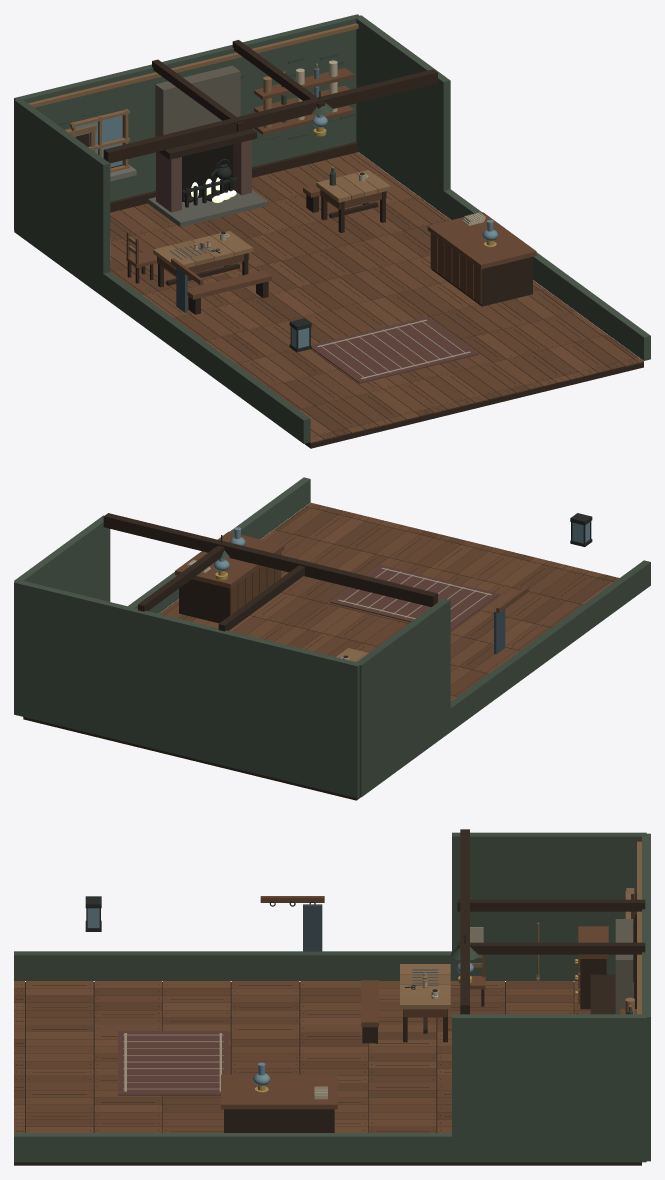
The model's file is lantern-common.glb.
3 renders of one model, top to bottom at view 1: azimuth 30°, elevation 25°; view 2: azimuth 150°, elevation 25°; view 3: azimuth 270°, elevation 25°, orthographic. The views are drawn at different scales.
Visible parts, largest first — view 1: lantern-common-wood, lantern-common-green, lantern-common-woodDark, lantern-common-woodLight, lantern-common-red, lantern-common-plaster, lantern-common-brick, lantern-common-stone, lantern-common-linen, lantern-common-black, lantern-common-iron, lantern-common-glass (+1 smaller); view 2: lantern-common-green, lantern-common-wood, lantern-common-woodDark, lantern-common-red, lantern-common-linen, lantern-common-glass, lantern-common-iron, lantern-common-blue; view 3: lantern-common-green, lantern-common-wood, lantern-common-woodDark, lantern-common-red, lantern-common-woodLight, lantern-common-linen, lantern-common-plaster, lantern-common-blue, lantern-common-iron, lantern-common-glass.
Boxes of the visible parts, bbox=[...] form: lantern-common-wood: bbox=[110, 68, 643, 443]; lantern-common-green: bbox=[14, 14, 650, 443]; lantern-common-woodDark: bbox=[71, 40, 643, 448]; lantern-common-woodLight: bbox=[28, 23, 390, 269]; lantern-common-red: bbox=[311, 316, 478, 383]; lantern-common-plaster: bbox=[155, 65, 240, 136]; lantern-common-brick: bbox=[156, 140, 251, 212]; lantern-common-stone: bbox=[110, 165, 267, 226]; lantern-common-linen: bbox=[110, 60, 485, 378]; lantern-common-black: bbox=[182, 144, 233, 202]; lantern-common-iron: bbox=[113, 91, 640, 438]; lantern-common-glass: bbox=[75, 65, 498, 348]; lantern-common-green: bbox=[14, 477, 650, 798]; lantern-common-wood: bbox=[159, 503, 619, 701]; lantern-common-woodDark: bbox=[23, 505, 607, 800]; lantern-common-red: bbox=[330, 565, 499, 630]; lantern-common-linen: bbox=[187, 560, 491, 660]; lantern-common-glass: bbox=[213, 522, 589, 571]; lantern-common-iron: bbox=[221, 504, 608, 672]; lantern-common-blue: bbox=[494, 609, 505, 654]; lantern-common-green: bbox=[14, 832, 650, 1162]; lantern-common-wood: bbox=[14, 896, 636, 1132]; lantern-common-woodDark: bbox=[14, 829, 645, 1165]; lantern-common-red: bbox=[118, 1031, 228, 1095]; lantern-common-woodLight: bbox=[400, 841, 641, 1014]; lantern-common-linen: bbox=[123, 927, 483, 1099]; lantern-common-plaster: bbox=[615, 919, 633, 1014]; lantern-common-blue: bbox=[303, 904, 438, 985]; lantern-common-iron: bbox=[16, 896, 577, 1130]; lantern-common-glass: bbox=[87, 908, 473, 1085].
Size of the model in its own units: 9.9 by 4.19 by 14.4.
